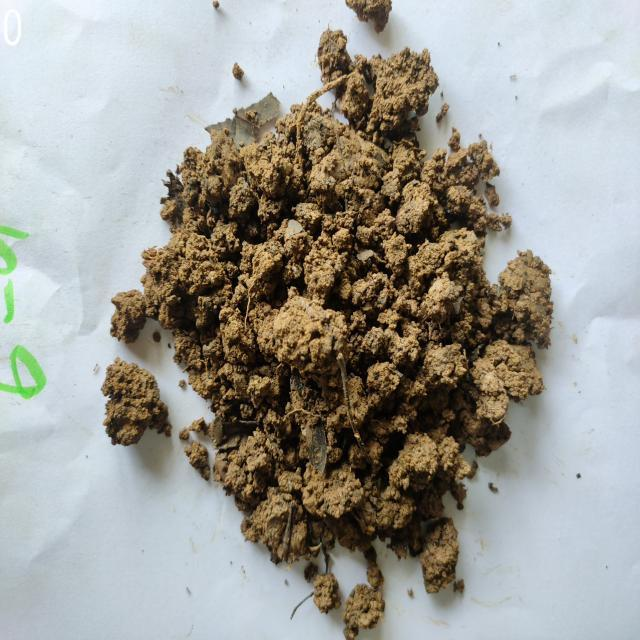soil: (227, 144, 457, 457)
